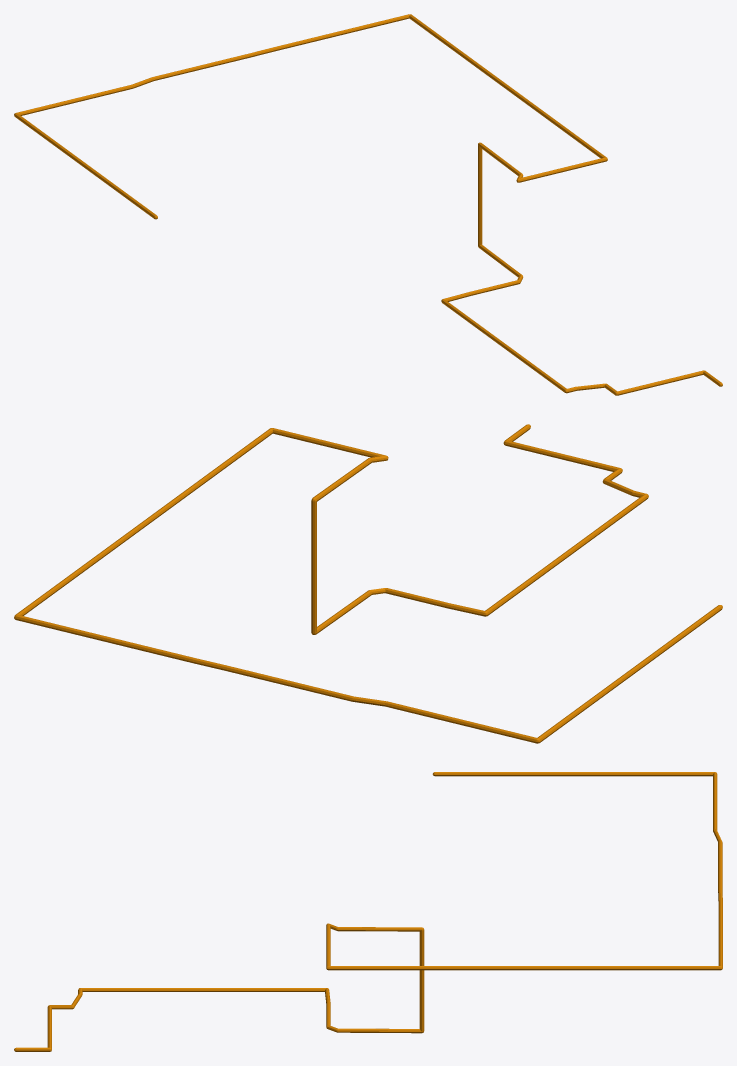
3 renders of one model, top to bottom at view 1: azimuth 30°, elevation 25°; view 2: azimuth 150°, elevation 25°; view 3: azimuth 270°, elevation 25°, orthographic. The views are drawn at different scales.
Size of the model in its own units: 2068 by 520 by 3163.
